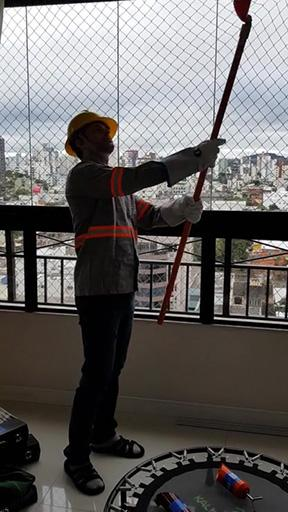Detector_Tensao_Contato: (216, 466, 262, 507)
Vara_Manobra: (157, 22, 252, 324)
